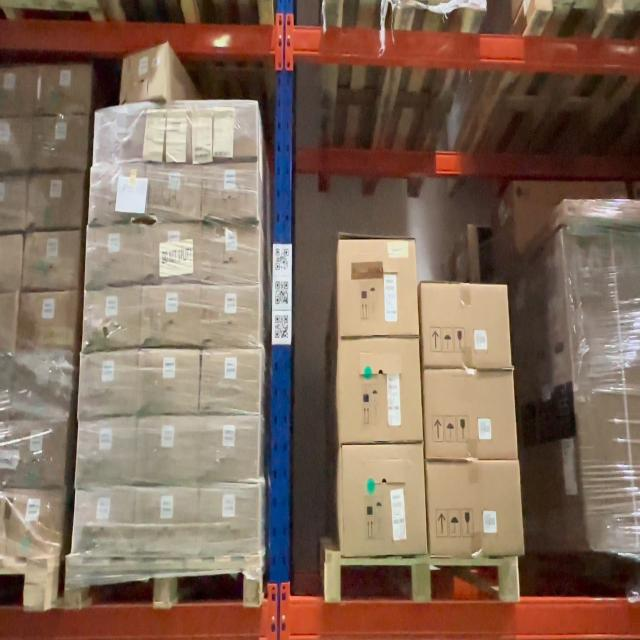box: (341, 449, 422, 553), (340, 339, 420, 442), (428, 372, 514, 460), (340, 240, 417, 338), (431, 466, 519, 551), (423, 286, 507, 364), (203, 490, 260, 551), (136, 493, 196, 550), (82, 291, 140, 348), (76, 426, 135, 482), (77, 358, 136, 413), (78, 493, 132, 551), (201, 352, 260, 405), (201, 421, 257, 475), (141, 424, 195, 479), (203, 288, 258, 341), (142, 360, 198, 412), (144, 292, 198, 342), (201, 107, 253, 158), (88, 234, 142, 282), (200, 230, 256, 276), (94, 168, 142, 220), (204, 168, 256, 216), (148, 168, 197, 218), (95, 112, 148, 158), (155, 109, 196, 162), (147, 233, 194, 279), (122, 54, 170, 94), (150, 129, 152, 129)
